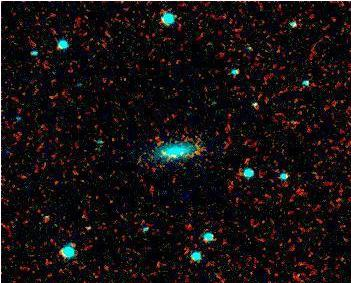star: (201, 88, 231, 118)
